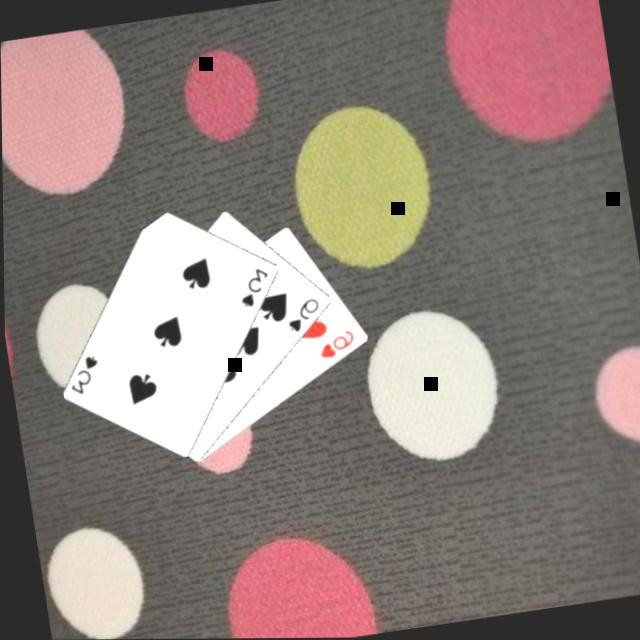3S: (230, 262, 274, 311), (60, 351, 104, 398)
6H: (310, 326, 356, 362)
9S: (279, 294, 323, 336)
